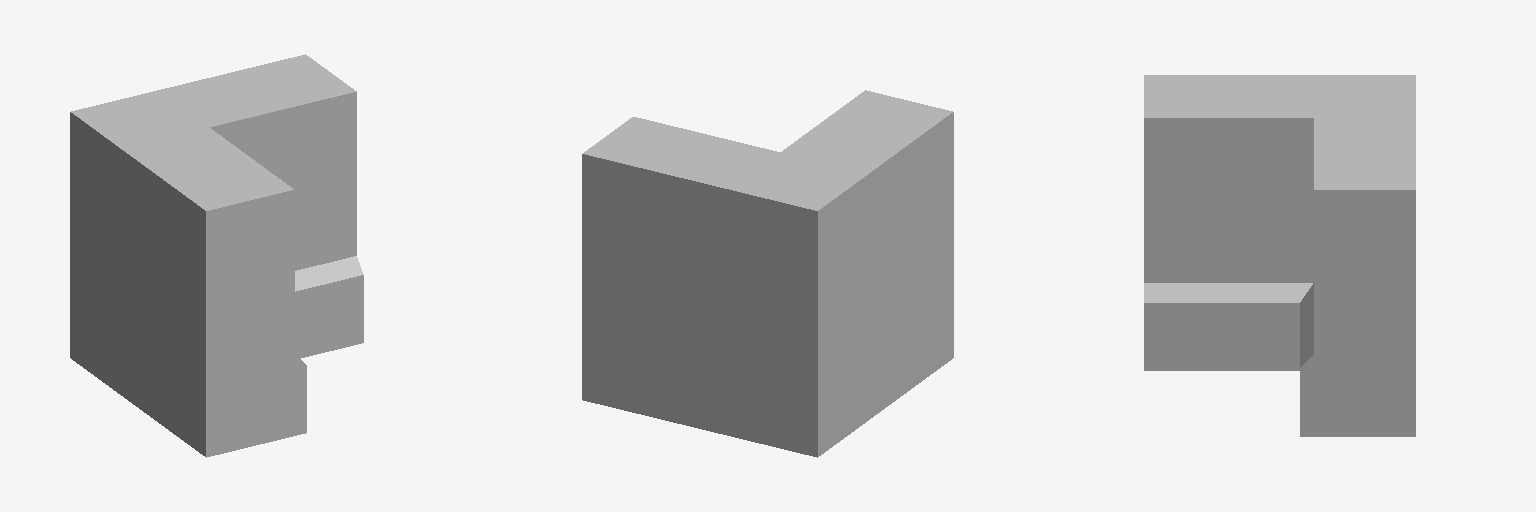
The model's file is wall_corner_in.obj.
The picture shows the model from 3 angles: view 1: azimuth 30°, elevation 25°; view 2: azimuth 150°, elevation 25°; view 3: azimuth 270°, elevation 25°; orthographic projection.
Visible parts, largest first — view 1: Cube_004; view 2: Cube_004; view 3: Cube_004.
Boxes of the visible parts, <box> form: Cube_004: <box>70,54,363,457</box>; Cube_004: <box>582,90,953,457</box>; Cube_004: <box>1144,75,1415,436</box>.
Bounding box in the file's own units: 5120 × 5120 × 5120.